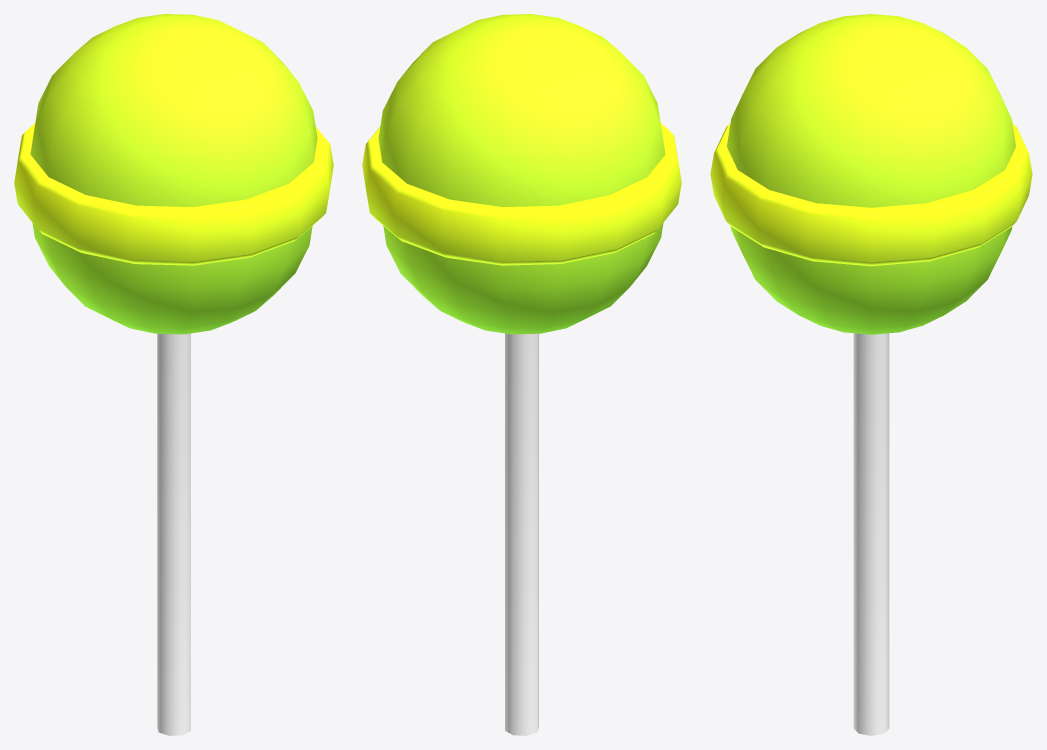
File: Lollipop_04.glb
3 views of the same model, side by side, from view 1: azimuth 30°, elevation 25°; view 2: azimuth 150°, elevation 25°; view 3: azimuth 270°, elevation 25° (orthographic).
Parts seen in each view (by area): view 1: Lollipop_04; view 2: Lollipop_04; view 3: Lollipop_04.
Part boxes in pixels (x1=…): Lollipop_04: x1=14, y1=14, x2=333, y2=735; Lollipop_04: x1=362, y1=14, x2=681, y2=735; Lollipop_04: x1=710, y1=14, x2=1032, y2=735.
Size of the model in its own units: 2.64 by 6.34 by 2.64.
Materials: 1 (1 with a texture image).
